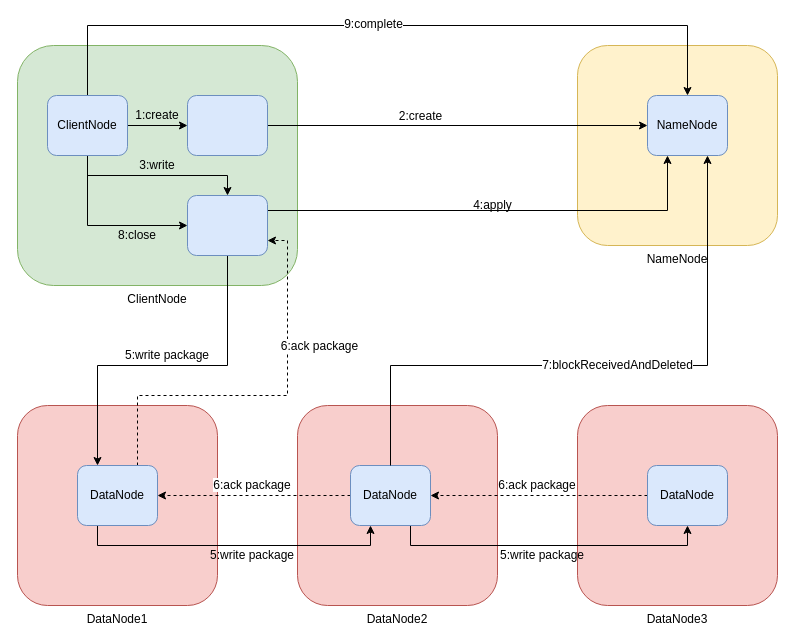
This 795x644 diagram has some shape labels left out. The shapes that lost their labels are listed below. From the top down, each one's centre as x and y in pixels, then its label:
the point at 227,125: Distributed FileSystem
the point at 227,225: FSData OutputStream
